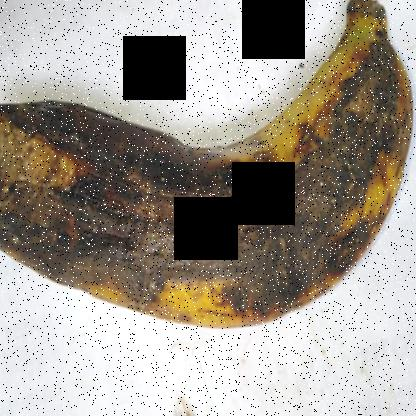rotten: (1, 1, 415, 349)
